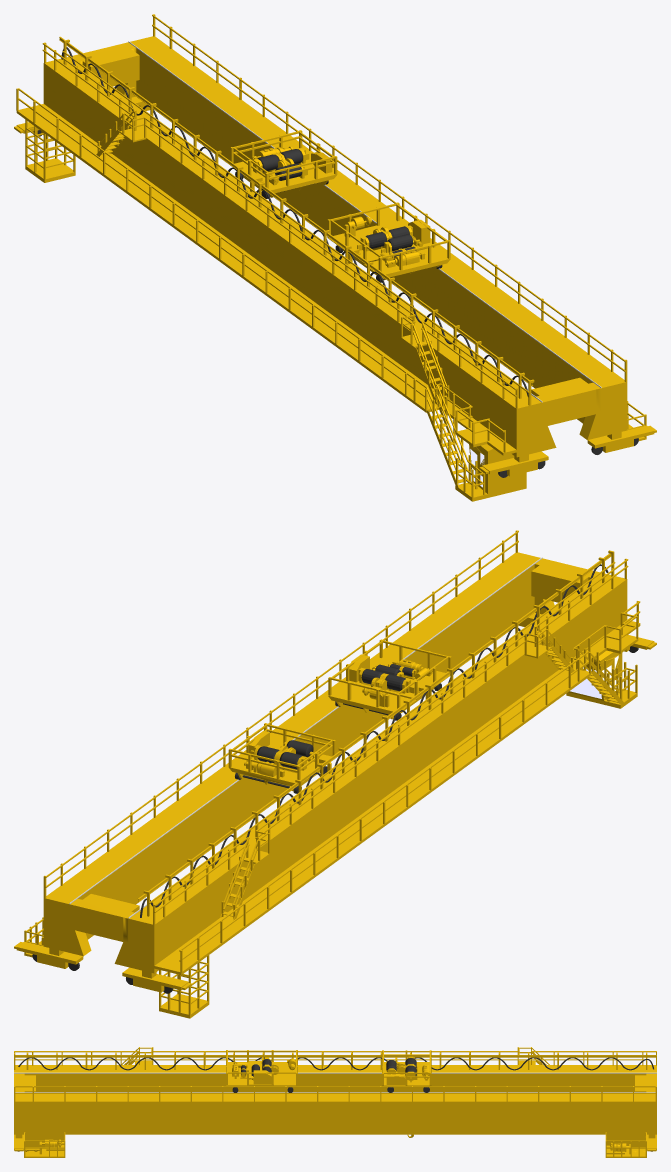
3 views of the same model, one above another, from view 1: azimuth 30°, elevation 25°; view 2: azimuth 150°, elevation 25°; view 3: azimuth 270°, elevation 25° (orthographic). The views are drawn at different scales.
Visible parts, largest first — view 1: 1_Bay_C_867_Body, 1_Bay_C_867_Head_01, 1_Bay_C_867_Head_02; view 2: 1_Bay_C_867_Body, 1_Bay_C_867_Head_01, 1_Bay_C_867_Head_02; view 3: 1_Bay_C_867_Body, 1_Bay_C_867_Head_01, 1_Bay_C_867_Head_02.
Boxes of the visible parts, box(x1,y1,x2,y2) form: 1_Bay_C_867_Body: box(14, 14, 656, 501); 1_Bay_C_867_Head_01: box(327, 202, 450, 282); 1_Bay_C_867_Head_02: box(230, 130, 337, 198); 1_Bay_C_867_Body: box(14, 530, 656, 1018); 1_Bay_C_867_Head_01: box(328, 639, 451, 720); 1_Bay_C_867_Head_02: box(228, 723, 335, 793); 1_Bay_C_867_Body: box(14, 1047, 656, 1157); 1_Bay_C_867_Head_01: box(226, 1050, 297, 1092); 1_Bay_C_867_Head_02: box(382, 1050, 431, 1137).
Size of the model in its own units: 8.78 by 6.39 by 42.04.
